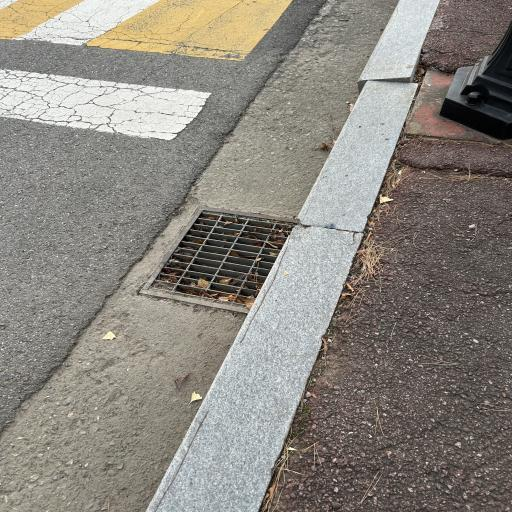debris: (204, 291, 235, 302), (178, 286, 205, 296), (232, 250, 256, 259), (236, 296, 255, 307), (190, 279, 210, 289), (243, 232, 265, 240), (164, 268, 184, 276), (161, 275, 179, 283), (223, 219, 246, 224), (172, 263, 188, 270), (220, 279, 238, 285), (270, 237, 285, 244), (203, 214, 220, 220), (248, 275, 262, 282), (266, 243, 282, 249), (277, 225, 293, 231), (273, 232, 288, 238), (225, 231, 240, 237), (177, 257, 192, 263), (192, 238, 204, 244), (186, 246, 201, 250), (255, 285, 263, 290)
drain: (139, 207, 298, 313)
